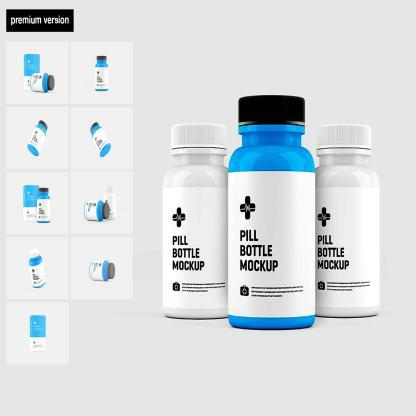jar: (228, 95, 315, 329), (162, 124, 228, 318), (316, 124, 380, 316)
